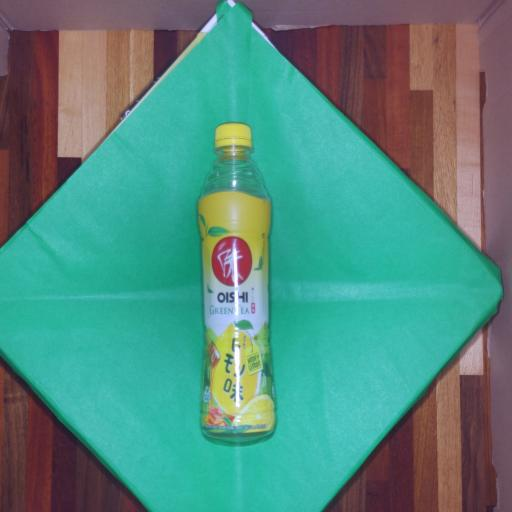bottle: (183, 112, 285, 448)
